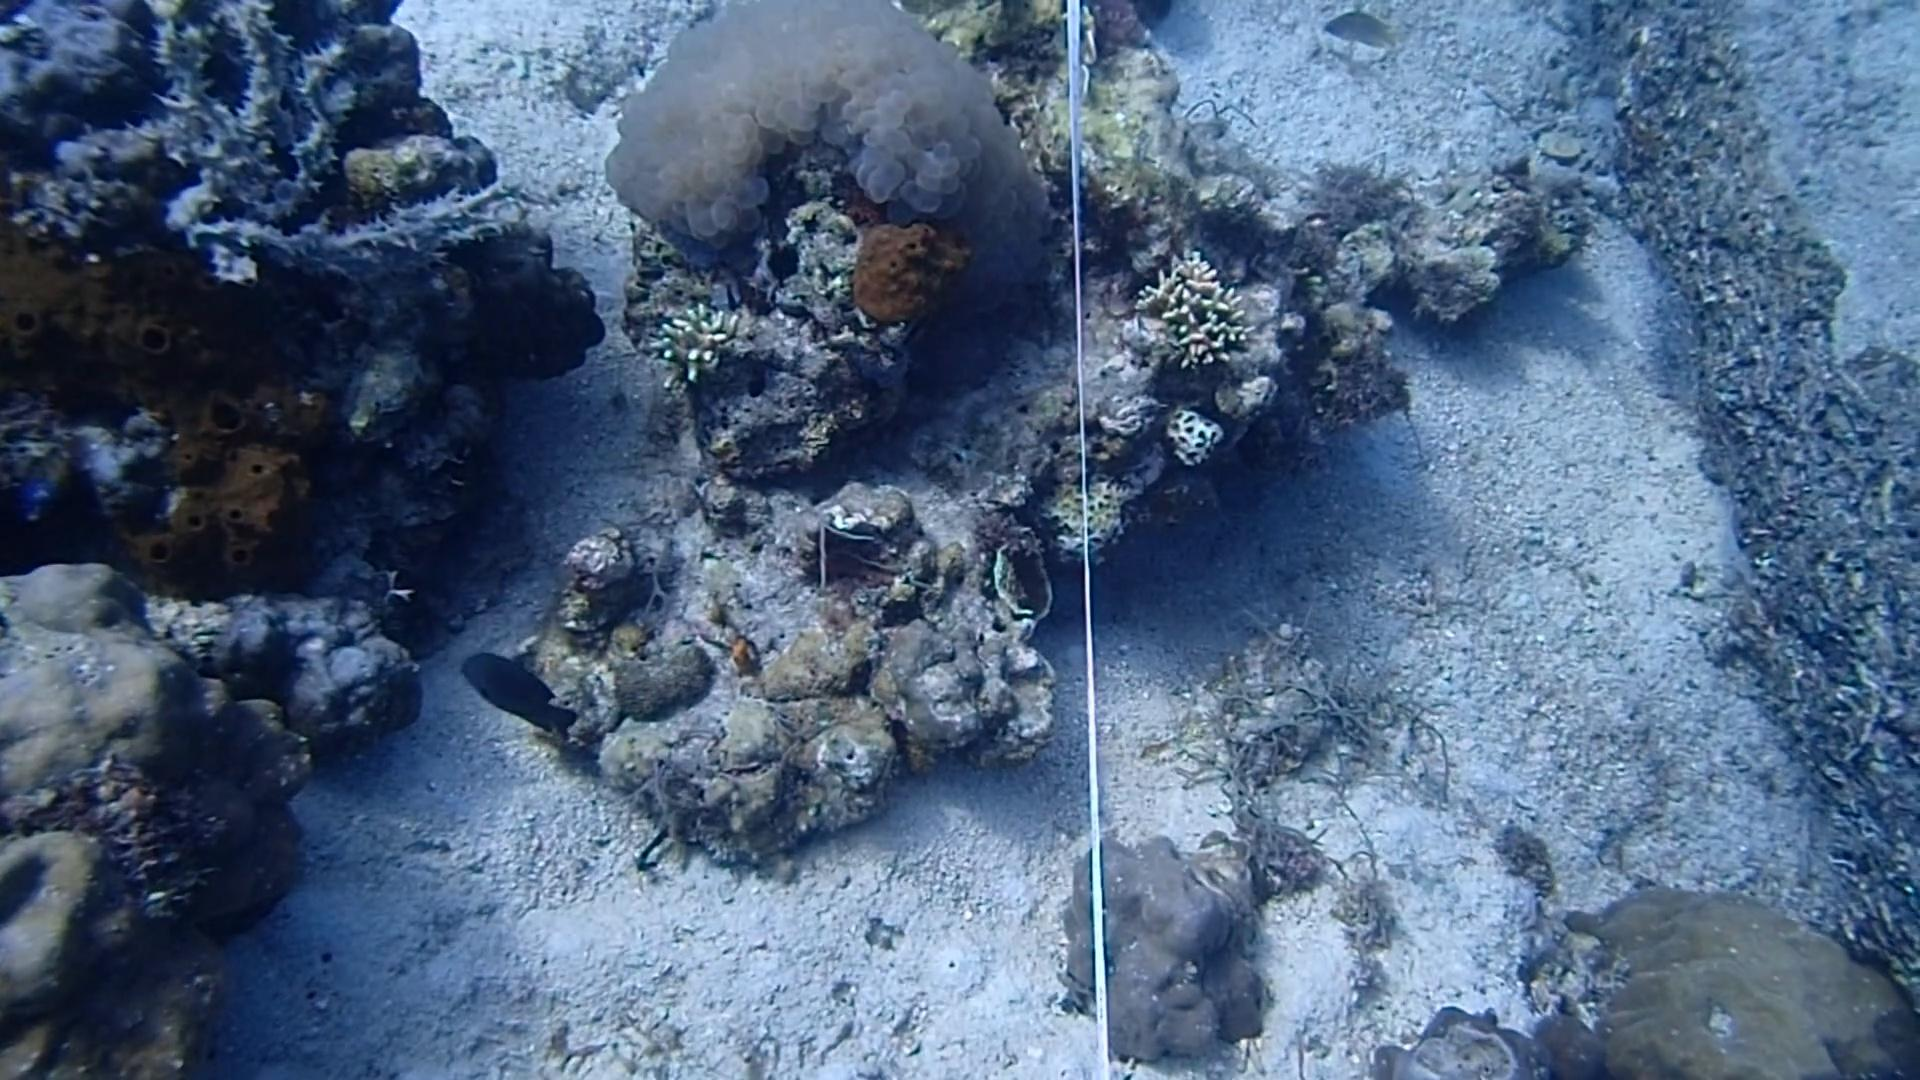Big Dark Blue Fish: (443, 641, 585, 744)
Light Fish: (1323, 0, 1404, 58)
